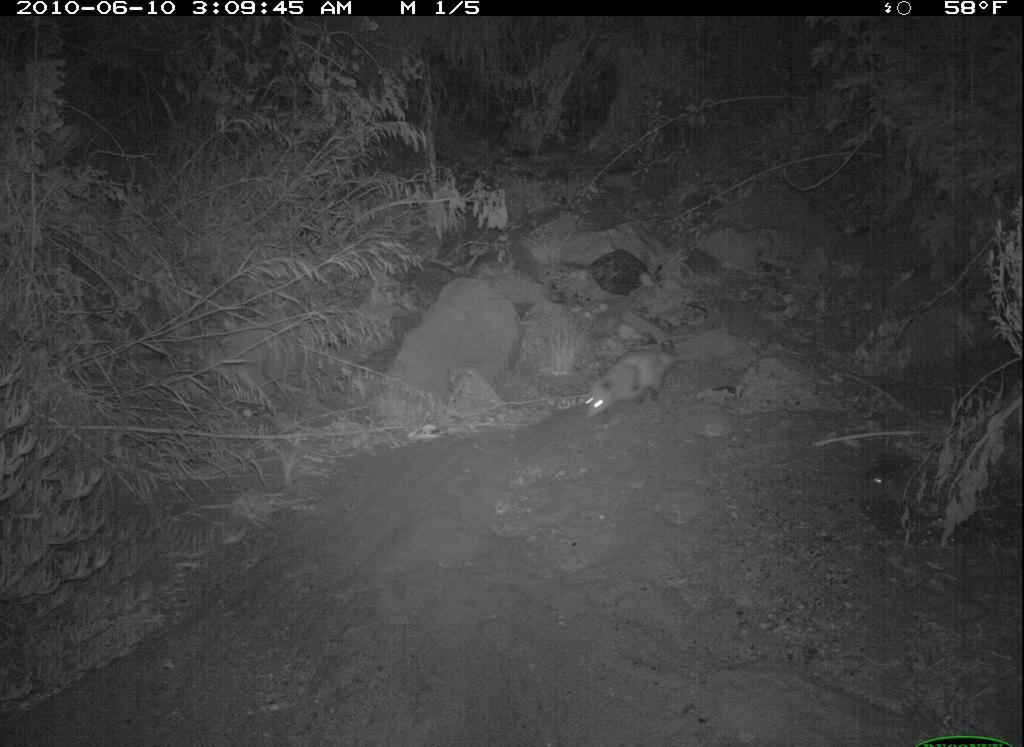opossum: (575, 338, 689, 434)
